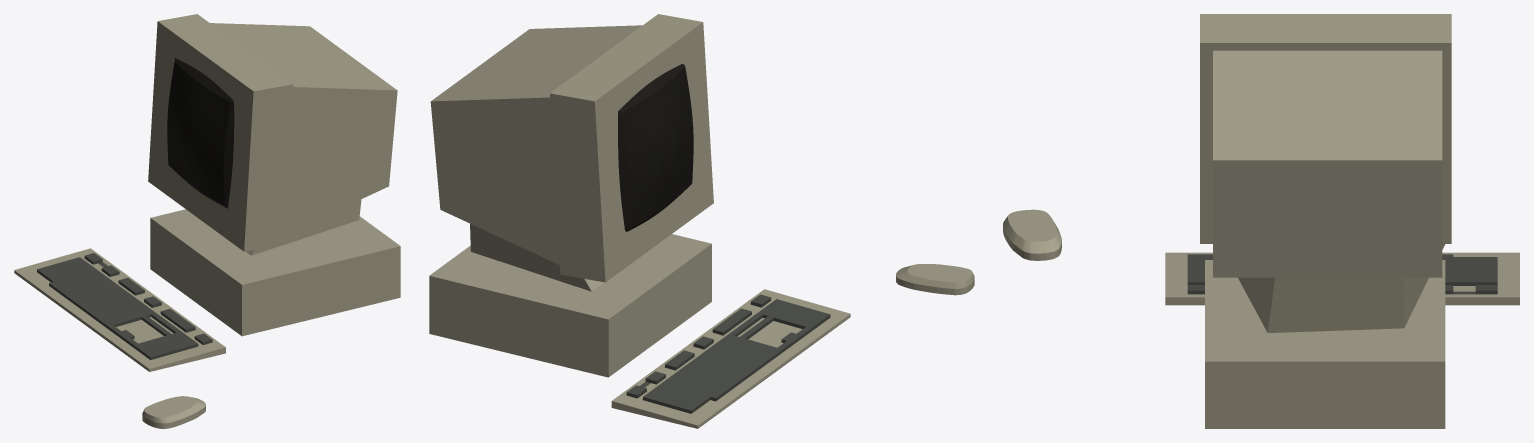
The picture shows the model from 3 angles, left to right: view 1: azimuth 30°, elevation 25°; view 2: azimuth 150°, elevation 25°; view 3: azimuth 270°, elevation 25°; orthographic projection. The views are drawn at different scales.
Visible parts, largest first — view 1: Cube.002; view 2: Cube.002; view 3: Cube.002.
Part boxes in pixels (x1=…): Cube.002: x1=14, y1=14, x2=400, y2=428; Cube.002: x1=429, y1=14, x2=974, y2=428; Cube.002: x1=1003, y1=14, x2=1519, y2=428.
Size of the model in its own units: 1442 by 1046 by 1533.
